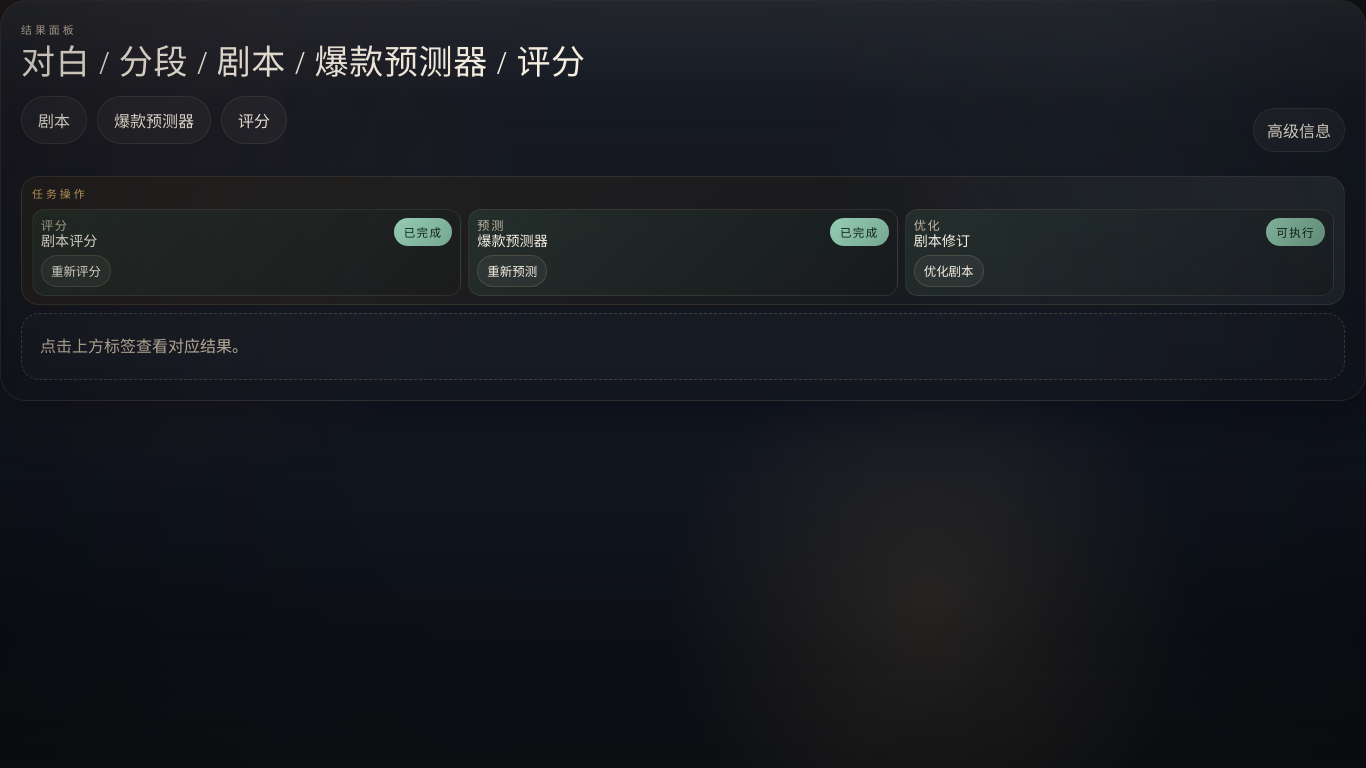
Test case: keeps result content hidden until a tag is clicked
The image size is (1366, 768).
Expected: the text "点击上方标签查看对应结果。" is shown, top-left (21, 313), bottom-right (1345, 380)
Expected: the text "前中段有拉力，但 38s-45s 存在明显下滑风险。" is not shown
Click the tab "评分" at (254, 120), box top-left (221, 96), bottom-right (287, 144)
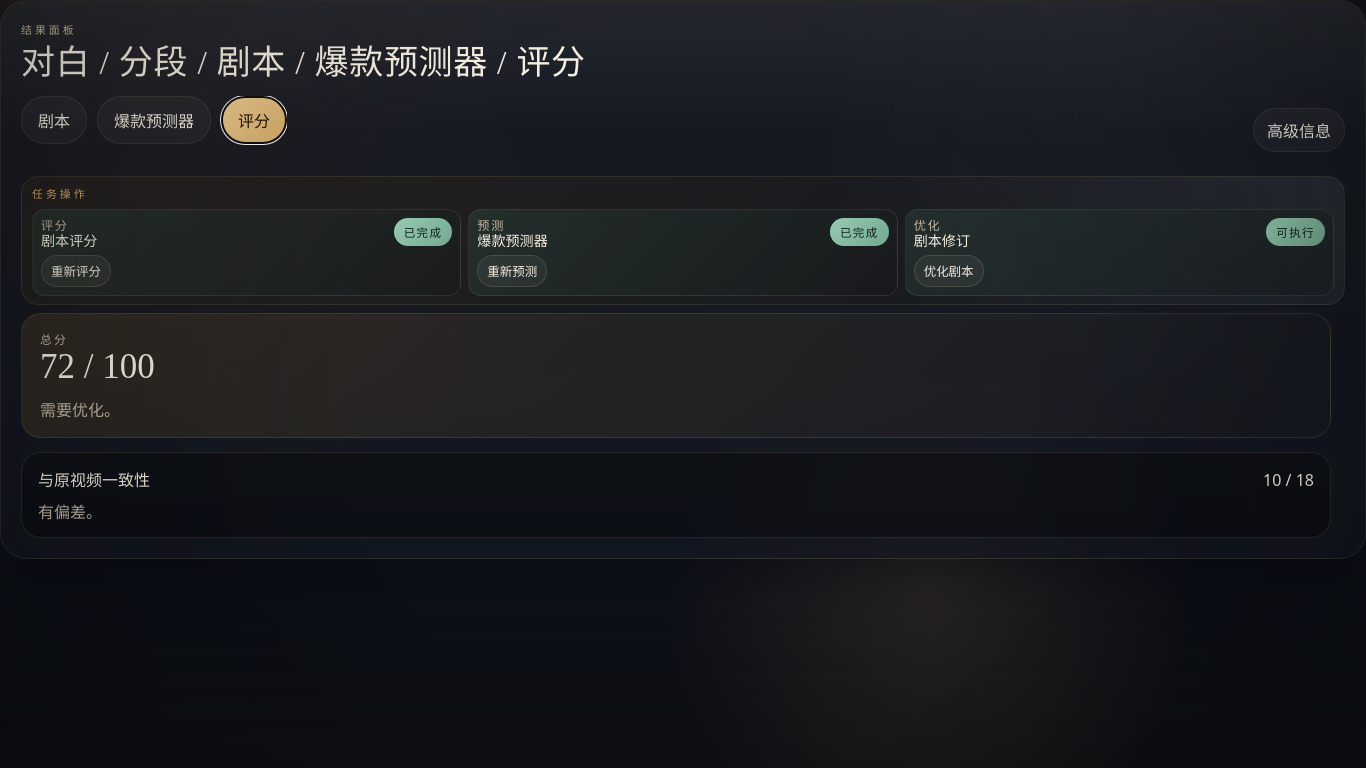
Expected: the text "需要优化。" is shown, top-left (40, 399), bottom-right (120, 421)
Click the tab "爆款预测器" at (154, 120), box top-left (97, 96), bottom-right (211, 144)
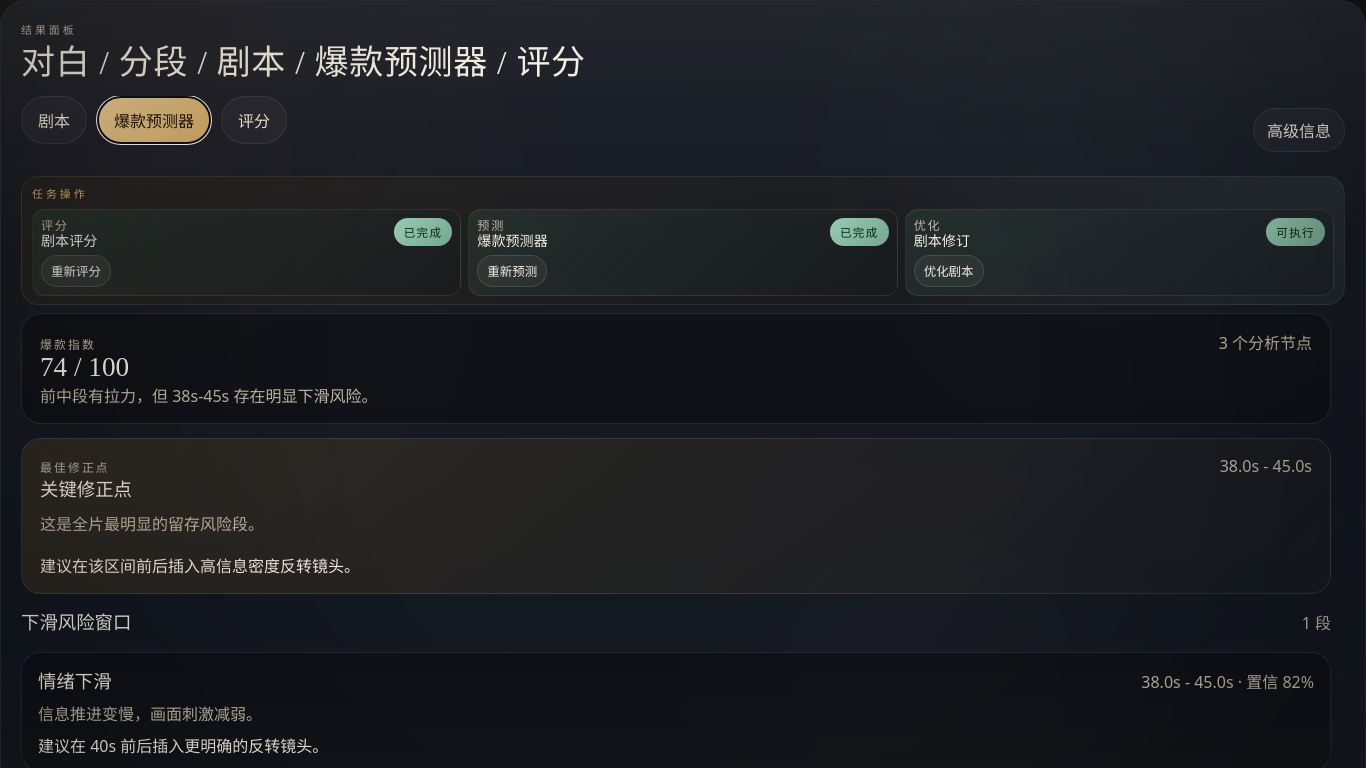
Expected: the text "前中段有拉力，但 38s-45s 存在明显下滑风险。" is shown, top-left (40, 385), bottom-right (377, 407)
